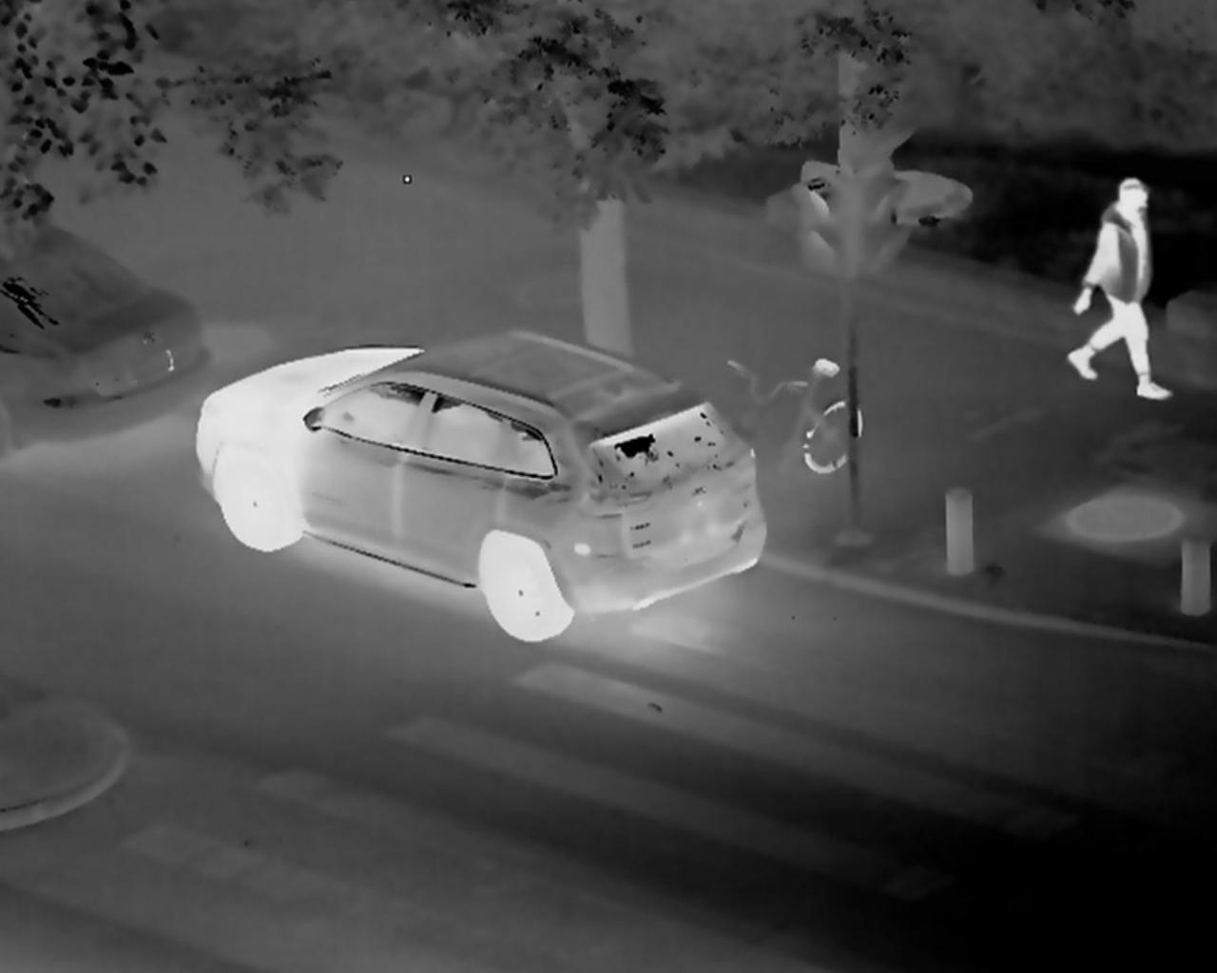person: (1064, 178, 1174, 401)
